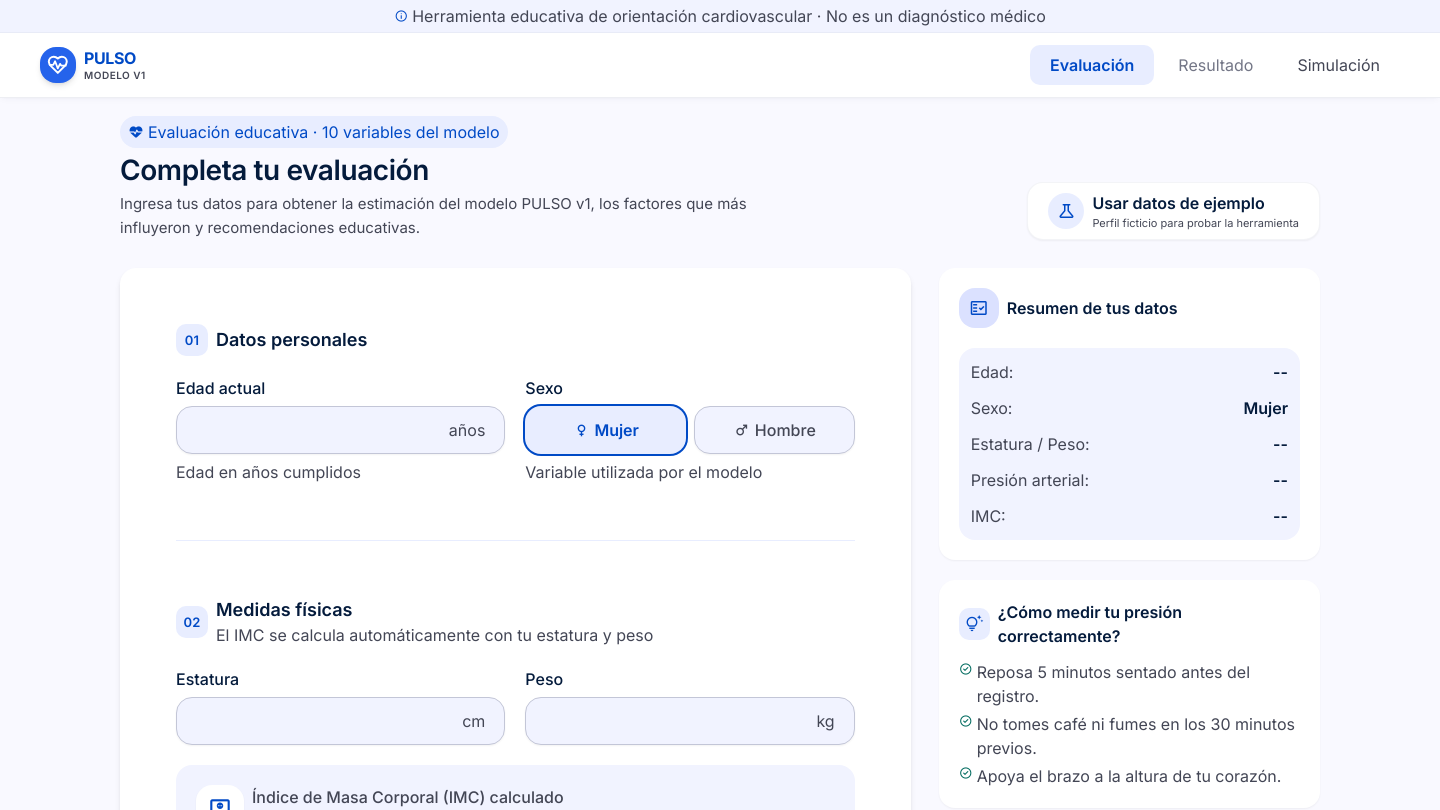
simulación de escenarios › pide calcular primero un resultado si no hay análisis
The width and height of the screenshot is (1440, 810).
Click the link "Simulación" at point(1339, 65), box [1298,55,1380,75]
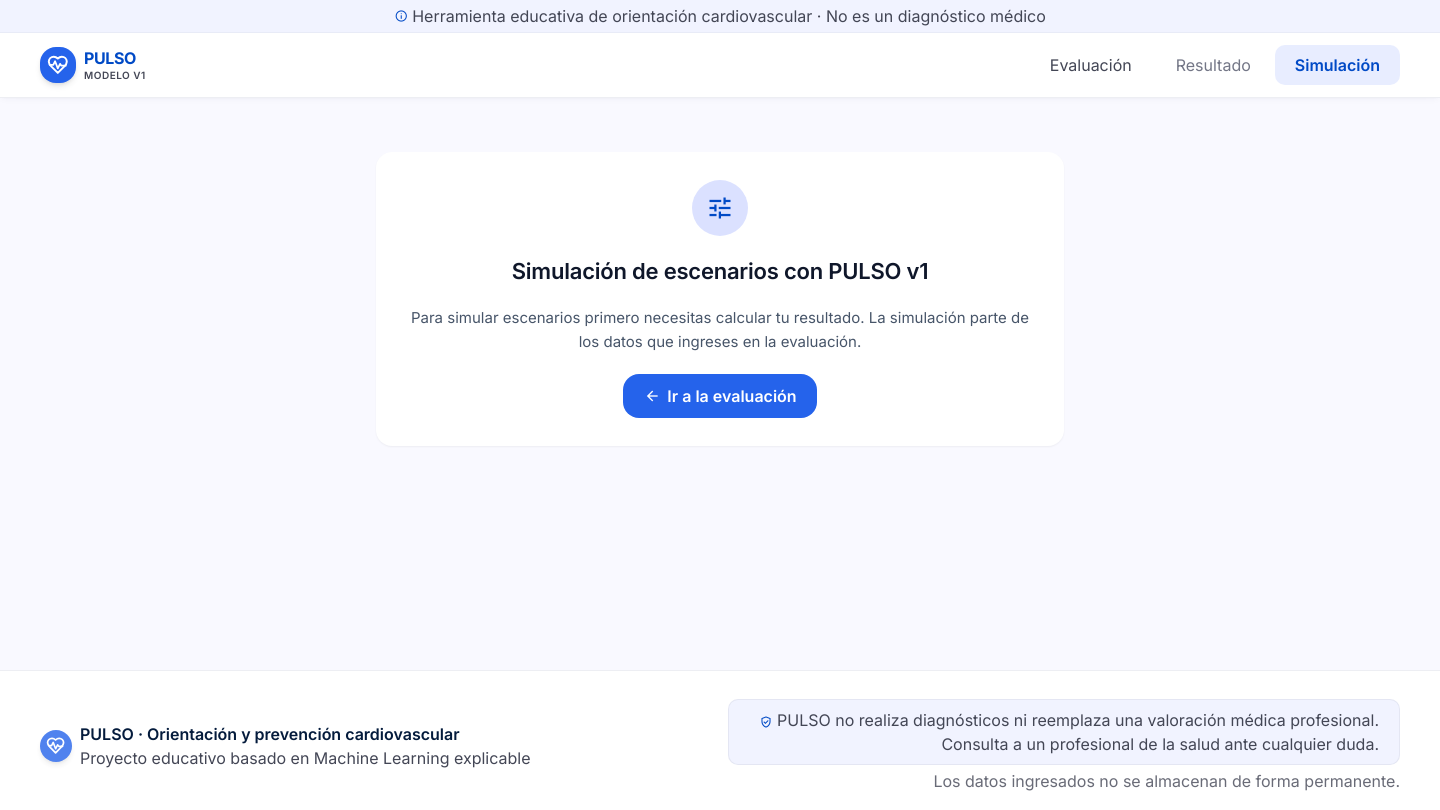
Expected: the text "primero necesitas calcular tu resultado" is shown, [411,308,1029,351]
